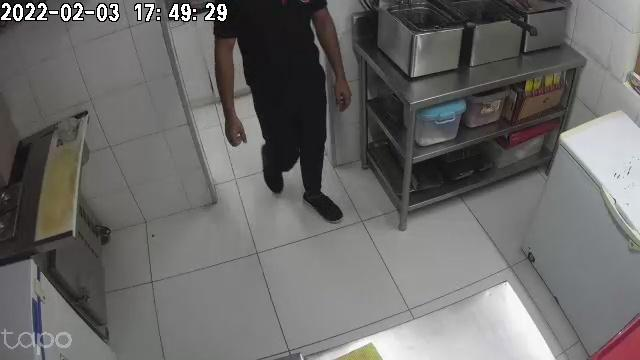no_gloves: (223, 101, 247, 146), (333, 69, 352, 112)
